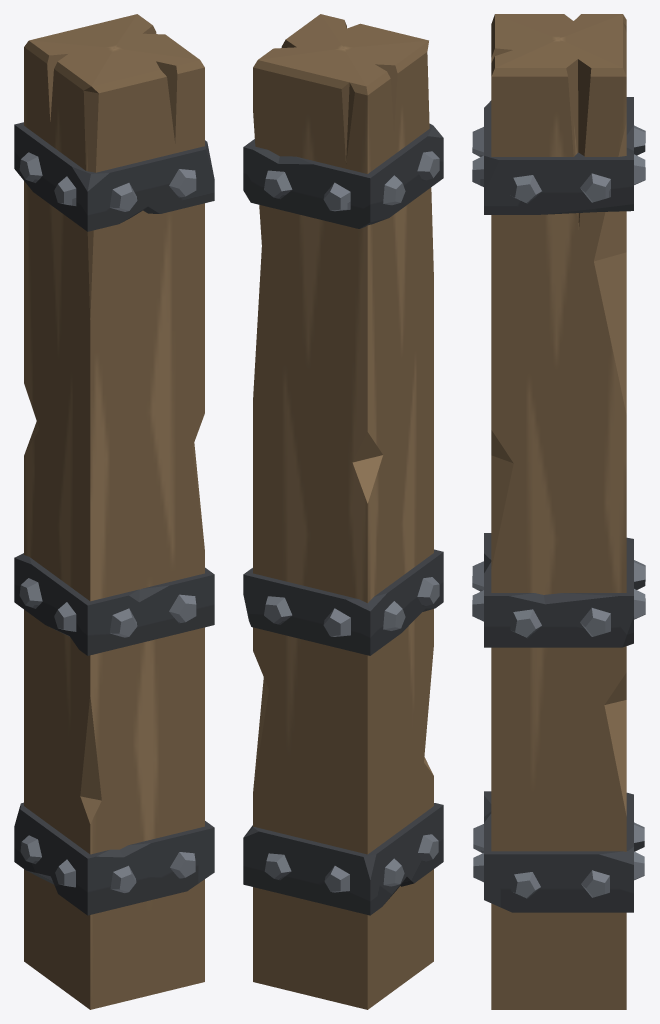
Rendered from SM_Bld_Pillar_01.fbx.
The picture shows the model from 3 angles, left to right: view 1: azimuth 30°, elevation 25°; view 2: azimuth 150°, elevation 25°; view 3: azimuth 270°, elevation 25°; orthographic projection. The views are drawn at different scales.
Parts seen in each view (by area): view 1: SM_Bld_Pillar_01; view 2: SM_Bld_Pillar_01; view 3: SM_Bld_Pillar_01.
Boxes of the visible parts, box(x1,y1,x2,y2) form: SM_Bld_Pillar_01: box(14, 14, 214, 1009); SM_Bld_Pillar_01: box(243, 14, 443, 1009); SM_Bld_Pillar_01: box(472, 14, 645, 1009).
Size of the model in its own units: 50.13 by 301 by 50.13.
